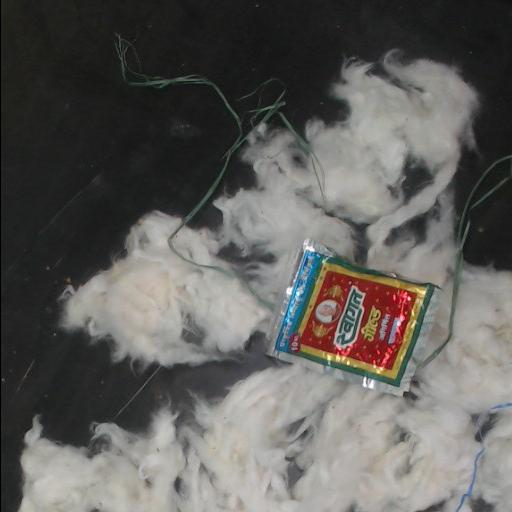conveyor belt: (1, 0, 512, 511), (189, 150, 253, 228), (465, 181, 512, 268)
cotton: (18, 51, 512, 511)
packet: (269, 239, 439, 395)
thread: (115, 35, 247, 278), (413, 152, 512, 369), (249, 96, 324, 196), (454, 402, 512, 511), (245, 284, 273, 311)
